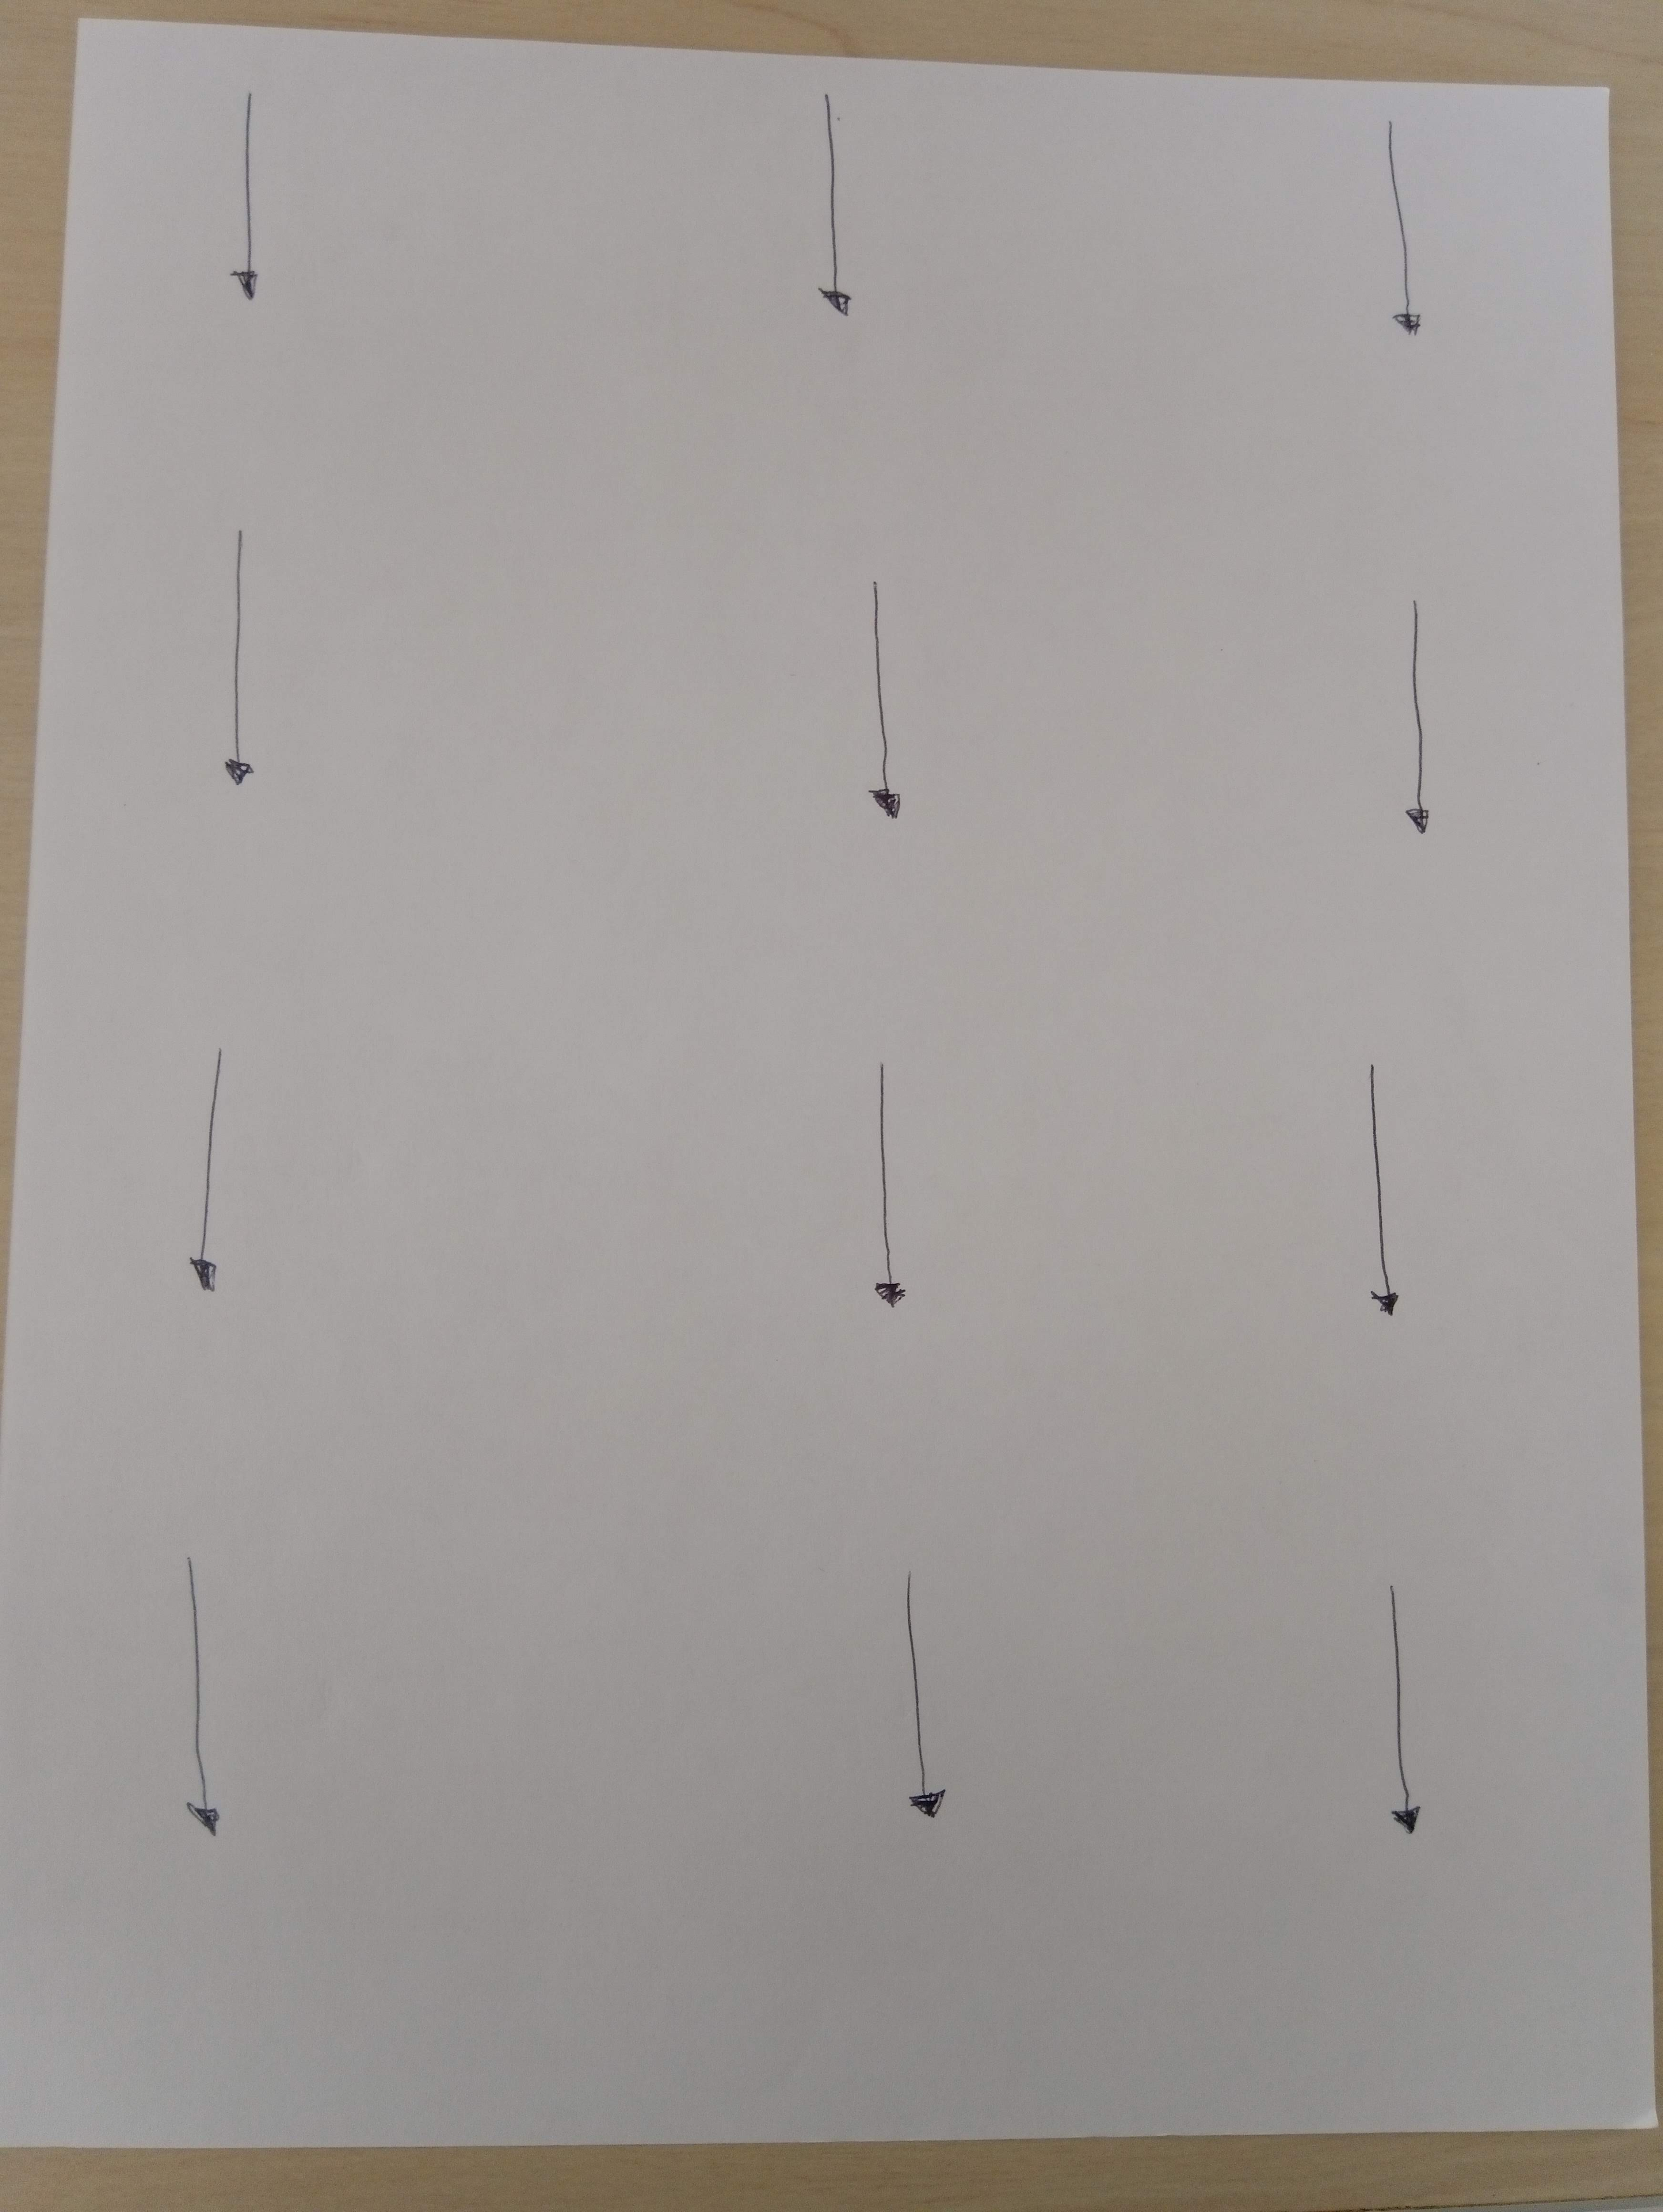arrow_line_down: (826, 538, 957, 831), (863, 1561, 987, 1838), (1340, 1578, 1453, 1865), (189, 526, 306, 801), (1335, 127, 1453, 361), (159, 1554, 246, 1858), (1335, 1058, 1431, 1322), (837, 1061, 936, 1315), (1377, 581, 1460, 861), (793, 79, 873, 332), (169, 1058, 250, 1304), (210, 86, 279, 295)
